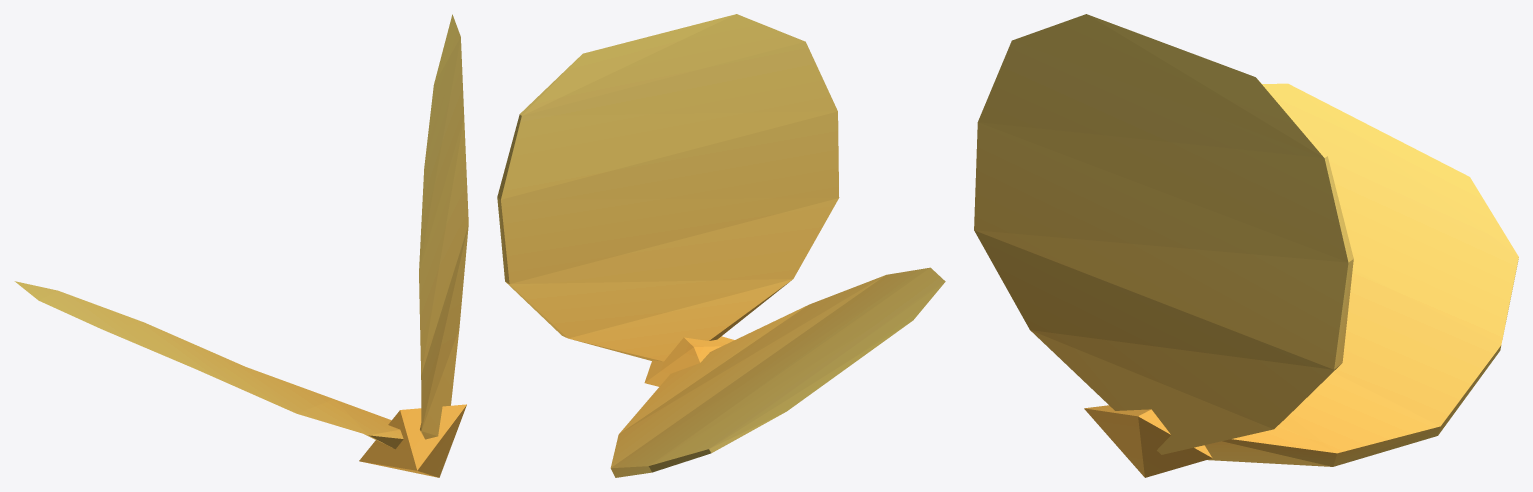
File: CharSkyKid_Neck_ShoulderButterfly.glb
The picture shows the model from 3 angles, left to right: view 1: azimuth 30°, elevation 25°; view 2: azimuth 150°, elevation 25°; view 3: azimuth 270°, elevation 25°; orthographic projection. The views are drawn at different scales.
Parts seen in each view (by area): view 1: CharSkyKid_Neck_ShoulderButterfly; view 2: CharSkyKid_Neck_ShoulderButterfly; view 3: CharSkyKid_Neck_ShoulderButterfly.
Part boxes in pixels (box(x1,y1,x2,y2)): CharSkyKid_Neck_ShoulderButterfly: box(14, 14, 468, 477); CharSkyKid_Neck_ShoulderButterfly: box(497, 14, 945, 477); CharSkyKid_Neck_ShoulderButterfly: box(974, 14, 1518, 477).
Size of the model in its own units: 1.05 by 0.9325 by 1.03.
Materials: 1 (1 with a texture image).
